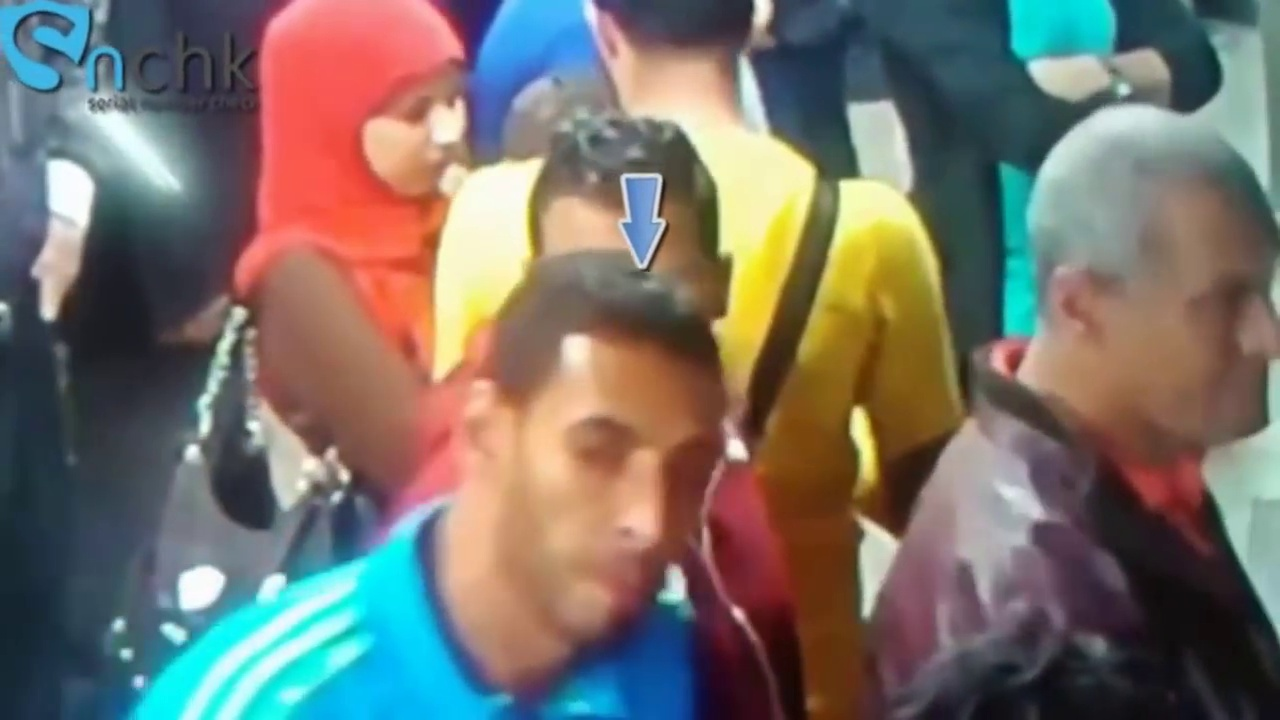face: (513, 347, 729, 628), (1140, 203, 1280, 456), (369, 69, 461, 199)
